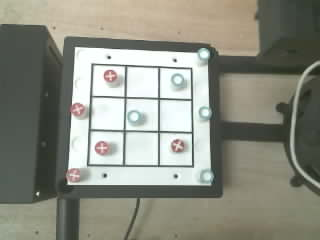blue circle: (127, 110, 141, 124), (200, 169, 213, 183), (171, 73, 184, 87), (198, 48, 210, 61), (199, 106, 211, 119)
board: (66, 47, 213, 185)
cells: (89, 131, 123, 164), (125, 132, 157, 165), (160, 133, 192, 165), (91, 98, 124, 129), (92, 65, 124, 96), (160, 100, 191, 131), (126, 99, 157, 130), (127, 67, 158, 97), (160, 68, 191, 98)
grid: (87, 63, 193, 167)
red cross: (171, 139, 185, 153), (95, 141, 109, 155), (104, 70, 118, 83), (70, 103, 84, 116), (66, 168, 79, 182)
